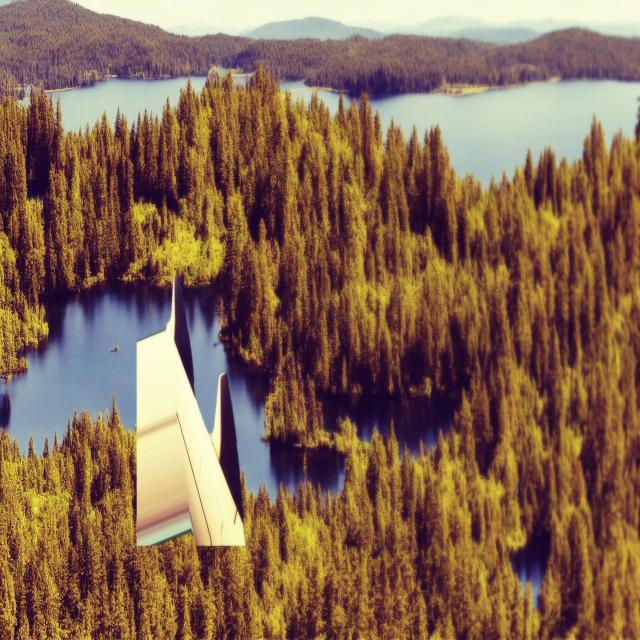airplane: (135, 274, 246, 548)
